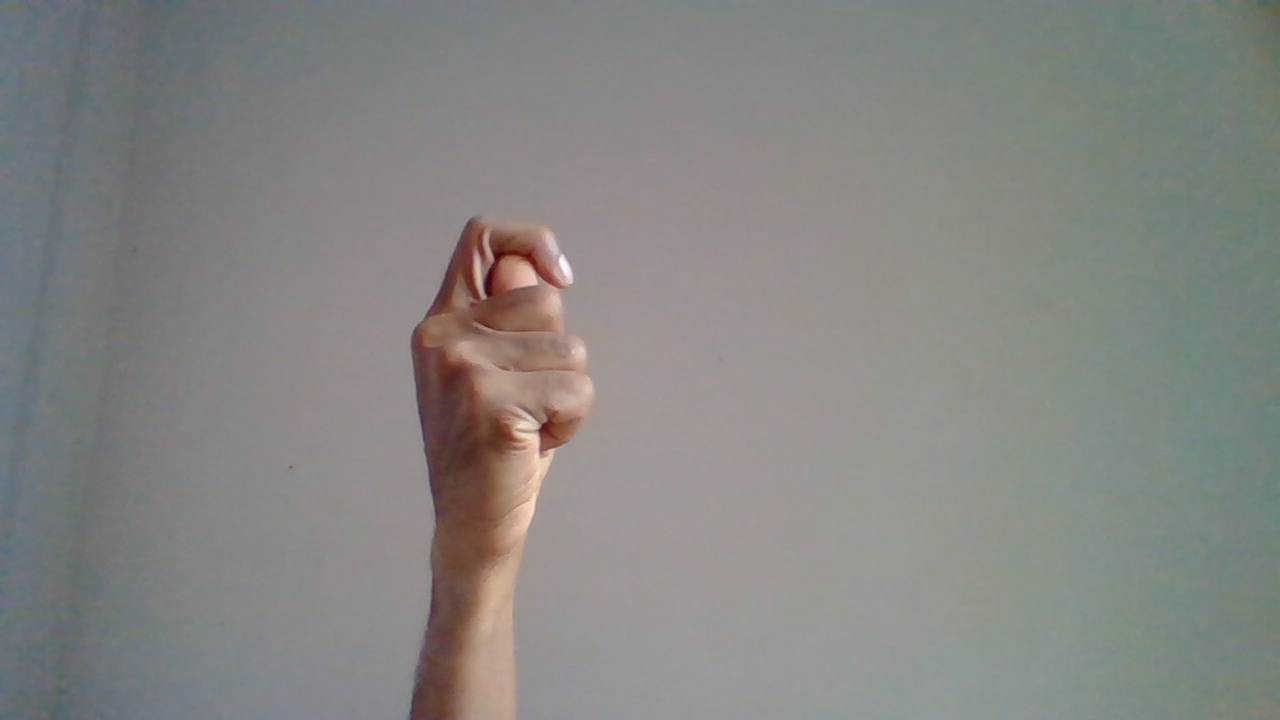che: (409, 210, 599, 647)
